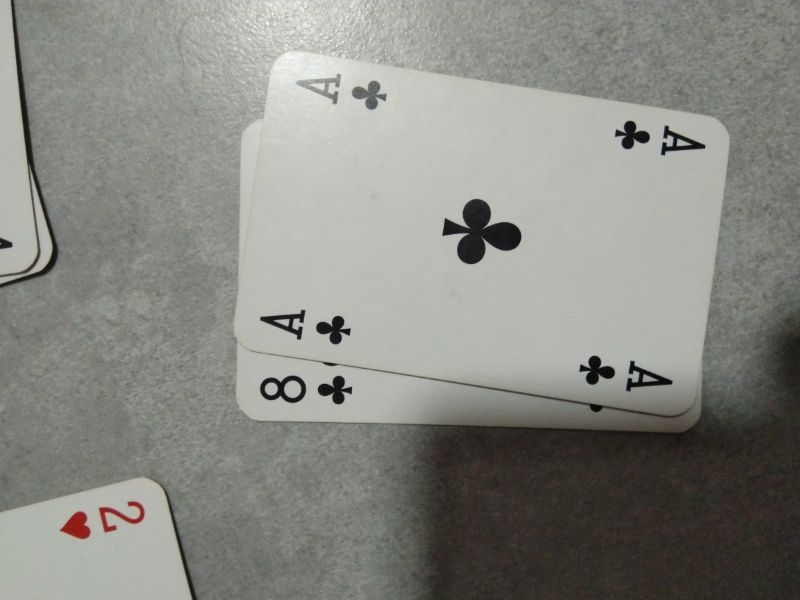2h: (55, 488, 158, 547)
8c: (256, 363, 360, 412)
Ac: (288, 62, 396, 121), (573, 342, 682, 400), (609, 111, 712, 165), (253, 300, 358, 352)
